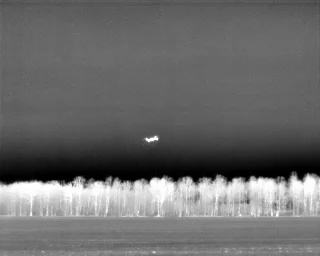DRONE: (140, 129, 164, 149)
